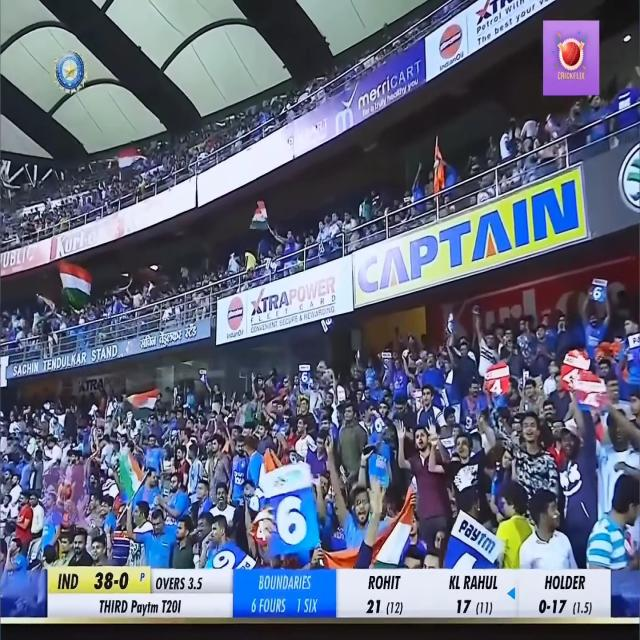fully_visible: (456, 508, 504, 566)
